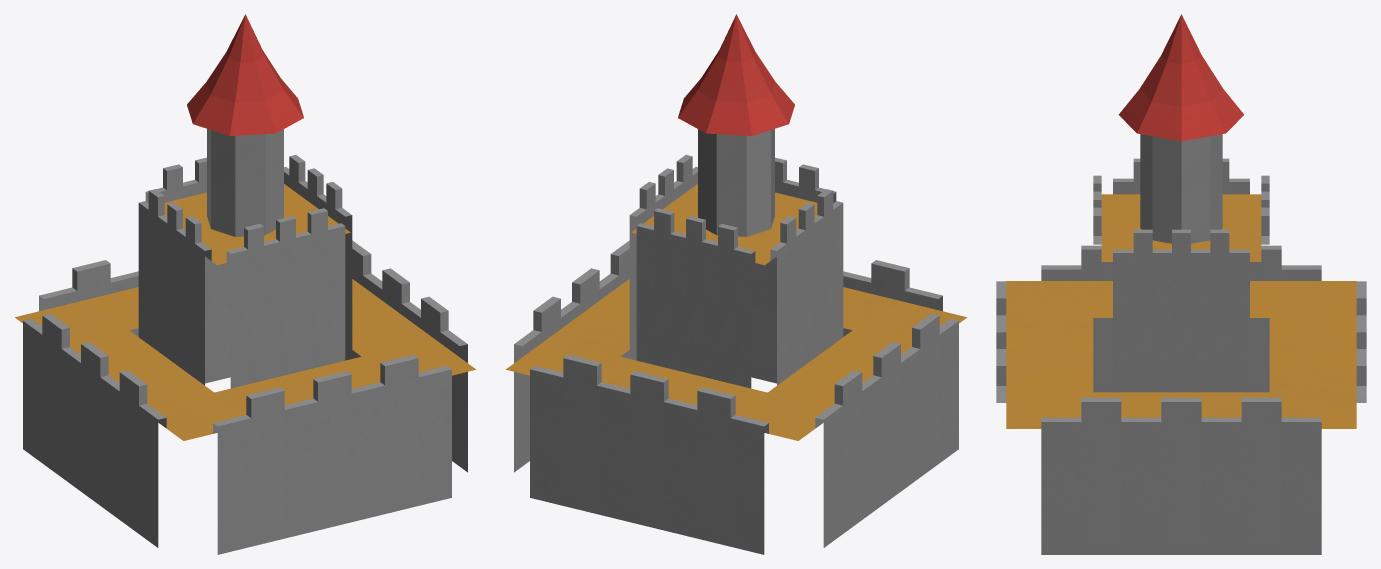
File: Castle Keep Export.obj
The picture shows the model from 3 angles, left to right: view 1: azimuth 30°, elevation 25°; view 2: azimuth 150°, elevation 25°; view 3: azimuth 270°, elevation 25°; orthographic projection. The views are drawn at different scales.
Visible parts, largest first — view 1: Keep_UV1; view 2: Keep_UV1; view 3: Keep_UV1.
Boxes of the visible parts, <box> form: Keep_UV1: <box>15,14,475,554</box>; Keep_UV1: <box>506,14,966,554</box>; Keep_UV1: <box>996,14,1366,554</box>.
Size of the model in its own units: 9 by 12.41 by 9.
